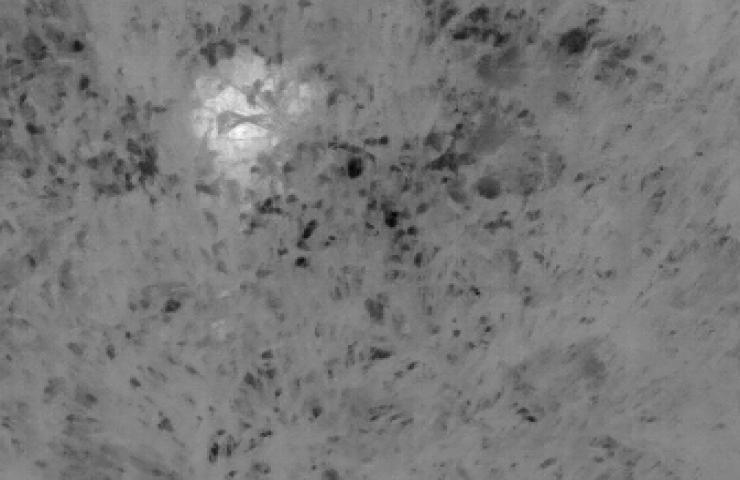landmines: (187, 60, 331, 188)
